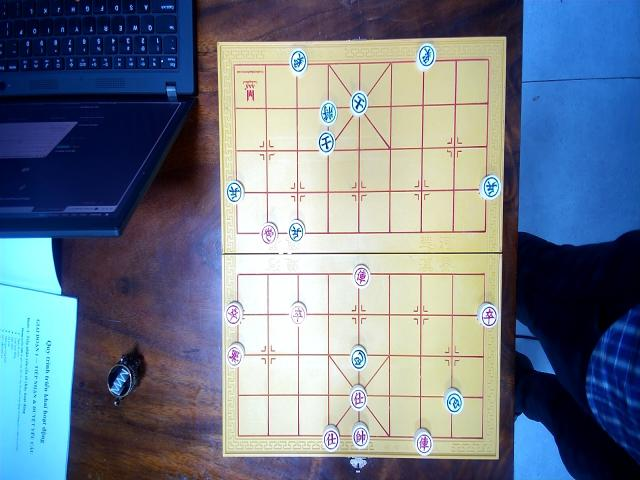piece: (476, 301, 498, 328), (478, 173, 500, 200), (415, 42, 436, 70), (321, 423, 341, 452), (350, 420, 370, 448), (413, 428, 433, 456), (443, 387, 463, 415), (226, 341, 245, 368), (349, 384, 367, 411), (350, 344, 368, 371), (289, 48, 307, 75), (225, 301, 244, 326), (225, 179, 244, 204), (352, 262, 370, 288), (350, 88, 368, 114), (319, 99, 337, 125), (317, 131, 335, 155), (290, 300, 307, 325), (260, 222, 277, 244), (288, 219, 304, 242)
